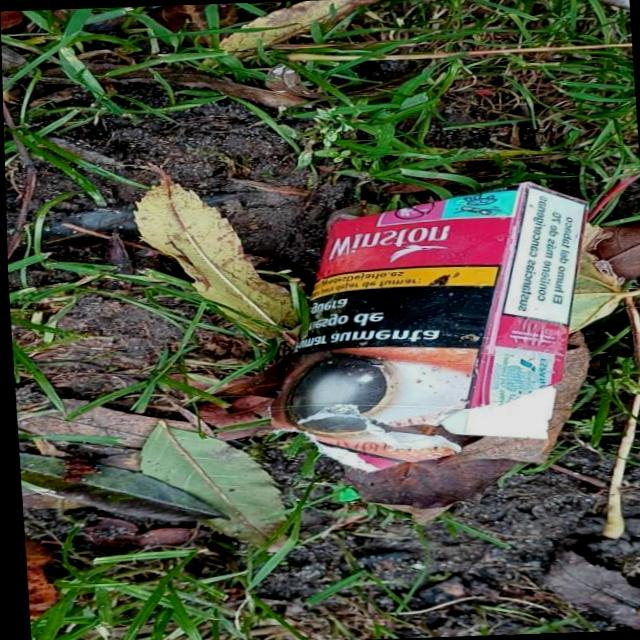Paper: (246, 177, 610, 479)
